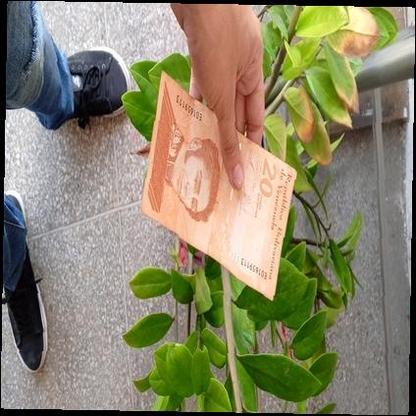vef_front: (138, 69, 298, 300)
